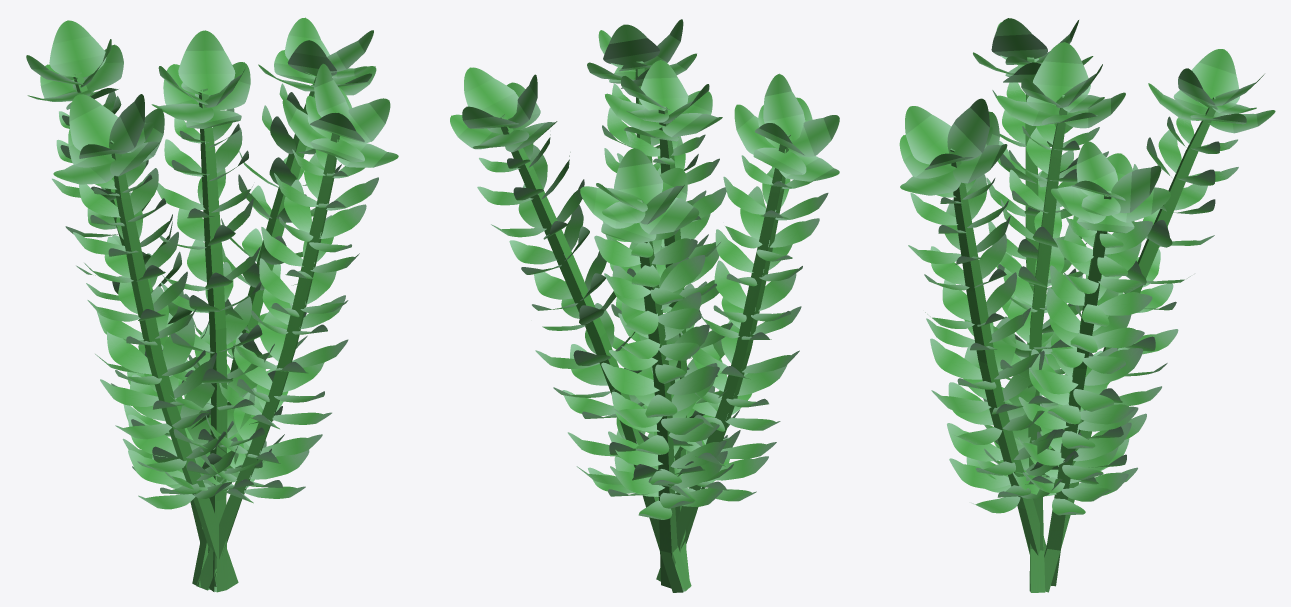
The model's file is Flowers2Model.fbx.
3 views of the same model, side by side, from view 1: azimuth 30°, elevation 25°; view 2: azimuth 150°, elevation 25°; view 3: azimuth 270°, elevation 25° (orthographic).
Parts seen in each view (by area): view 1: Cube.004; view 2: Cube.004; view 3: Cube.004.
Boxes of the visible parts, left/top/right/bottom form: Cube.004: left=26, top=17, right=398, bottom=592; Cube.004: left=450, top=19, right=839, bottom=592; Cube.004: left=899, top=18, right=1275, bottom=592.
Size of the model in its own units: 795 by 1129 by 754.
1 material, 1 textured.
